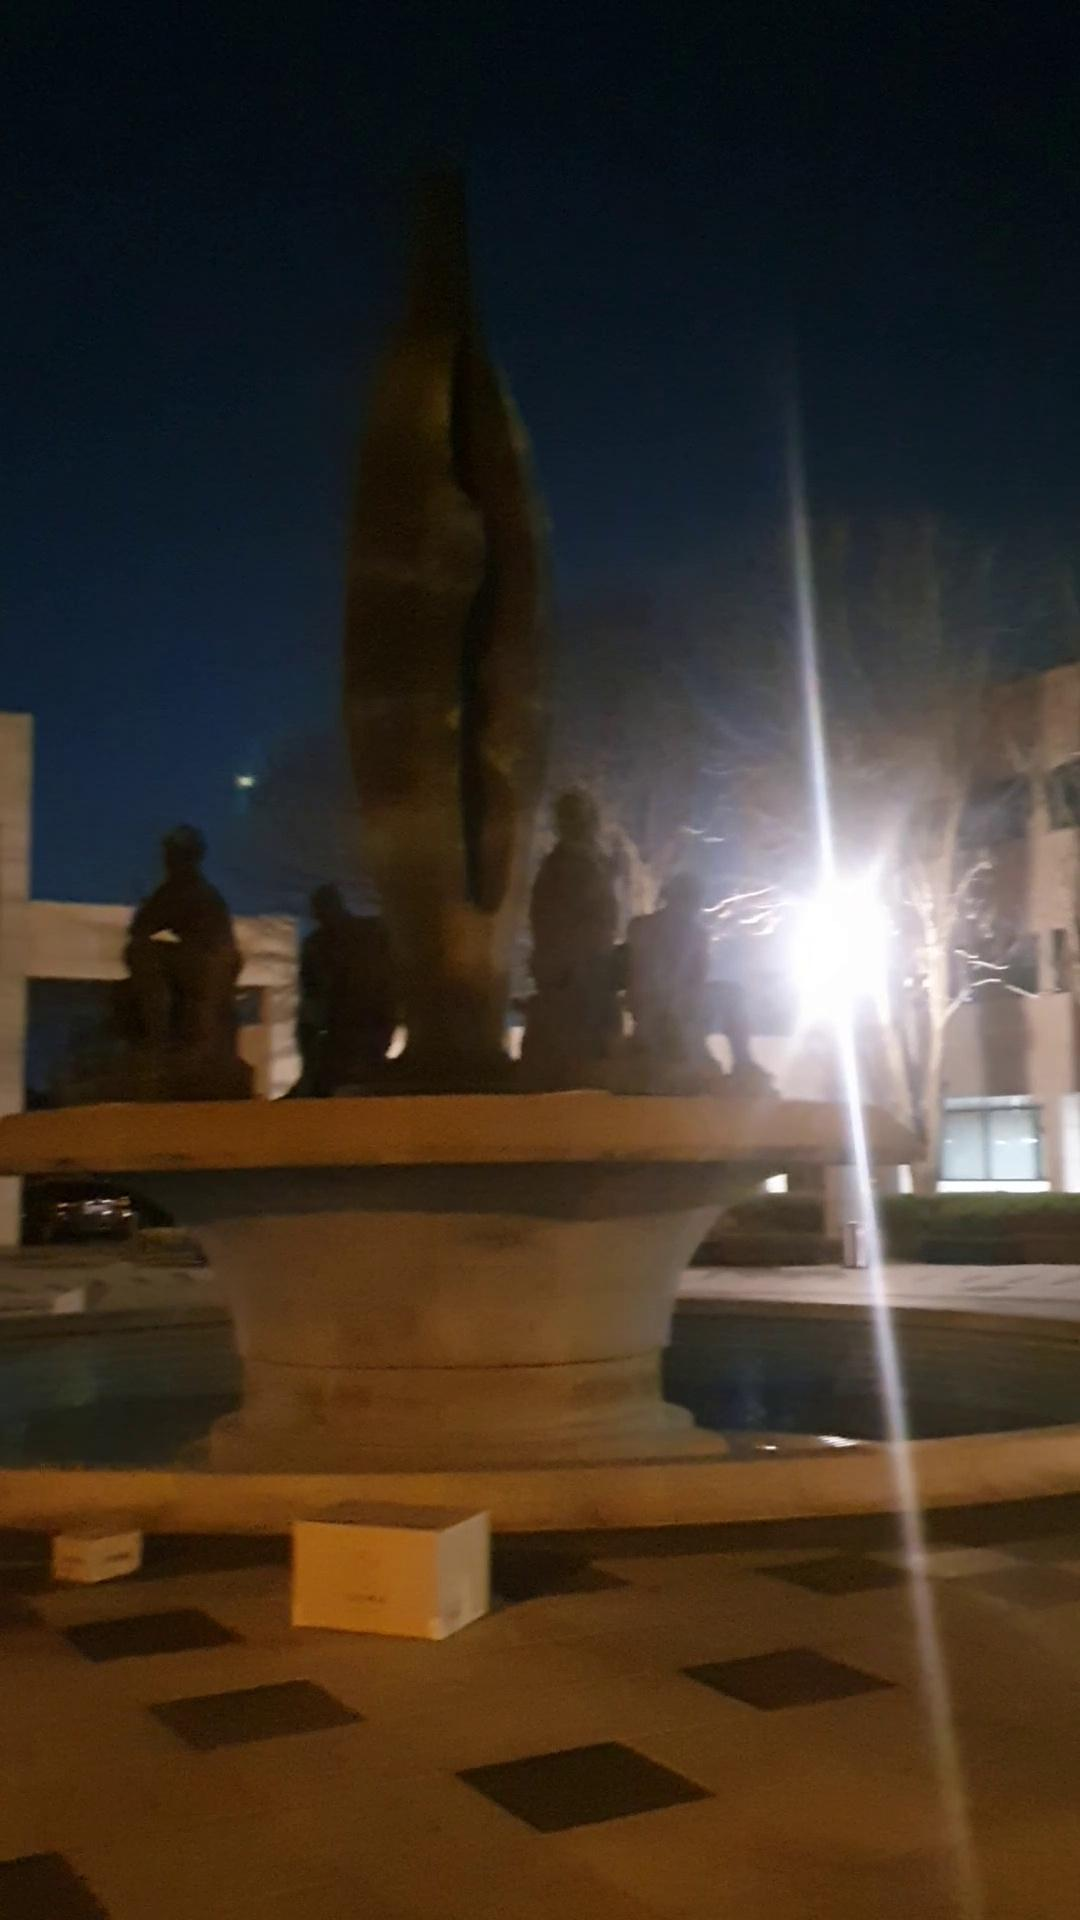Box: (248, 1473, 542, 1660), (36, 1509, 156, 1604)
